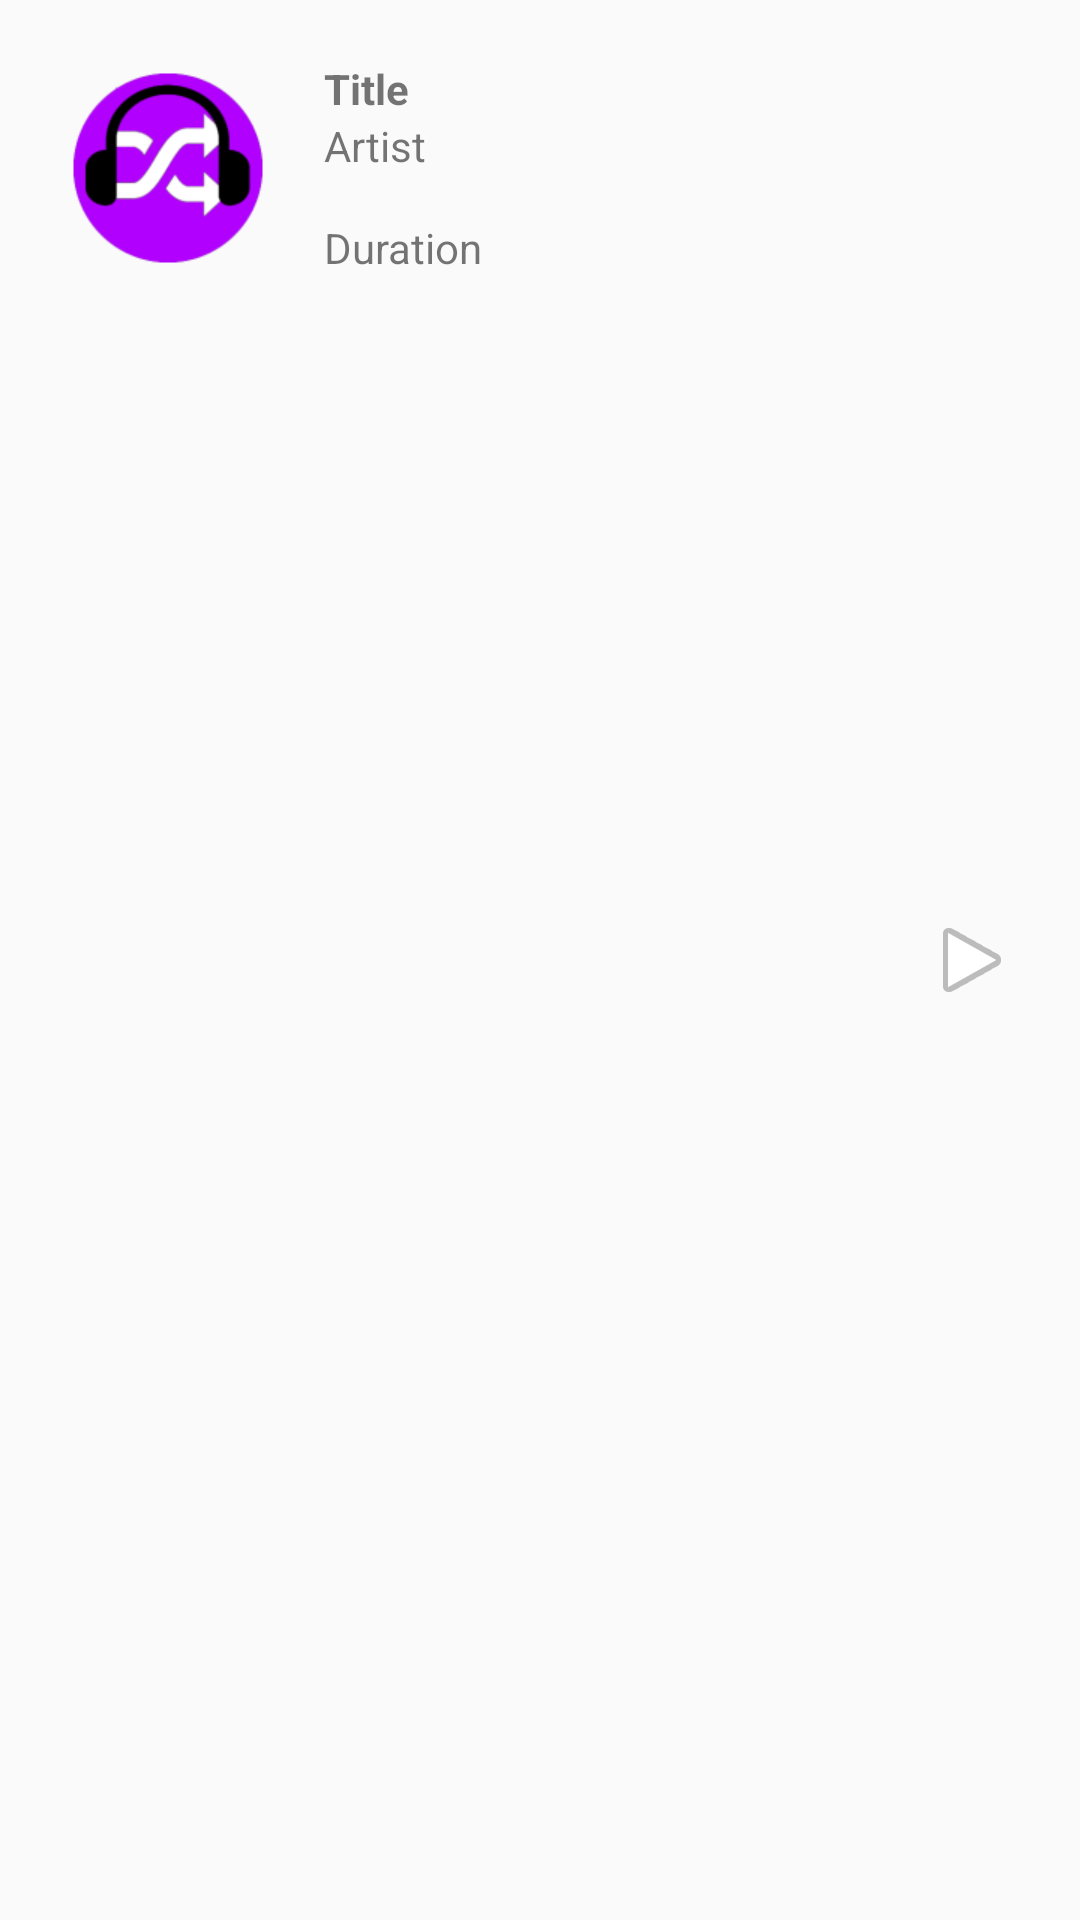

Icon bounding boxes for this 1080×1920 phone screenshot, format (left=x1, top=y1, right=x2, bottom=y2):
play: (left=943, top=928, right=1001, bottom=992)
